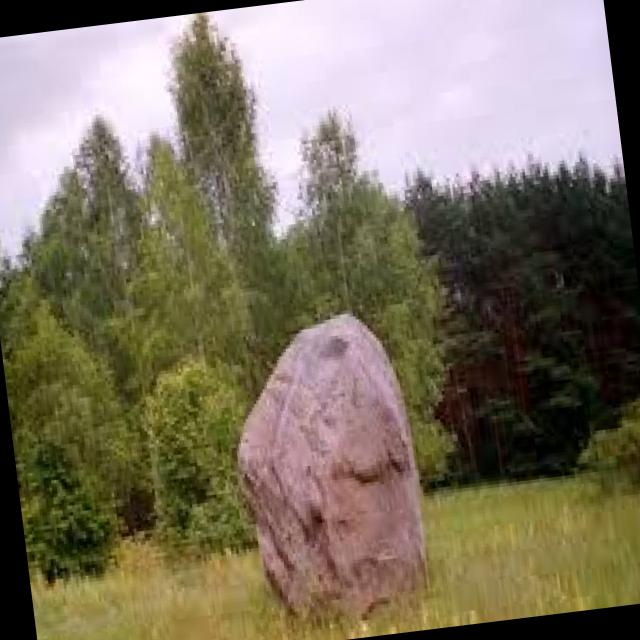grass: (29, 473, 640, 640)
stone: (237, 313, 423, 613)
